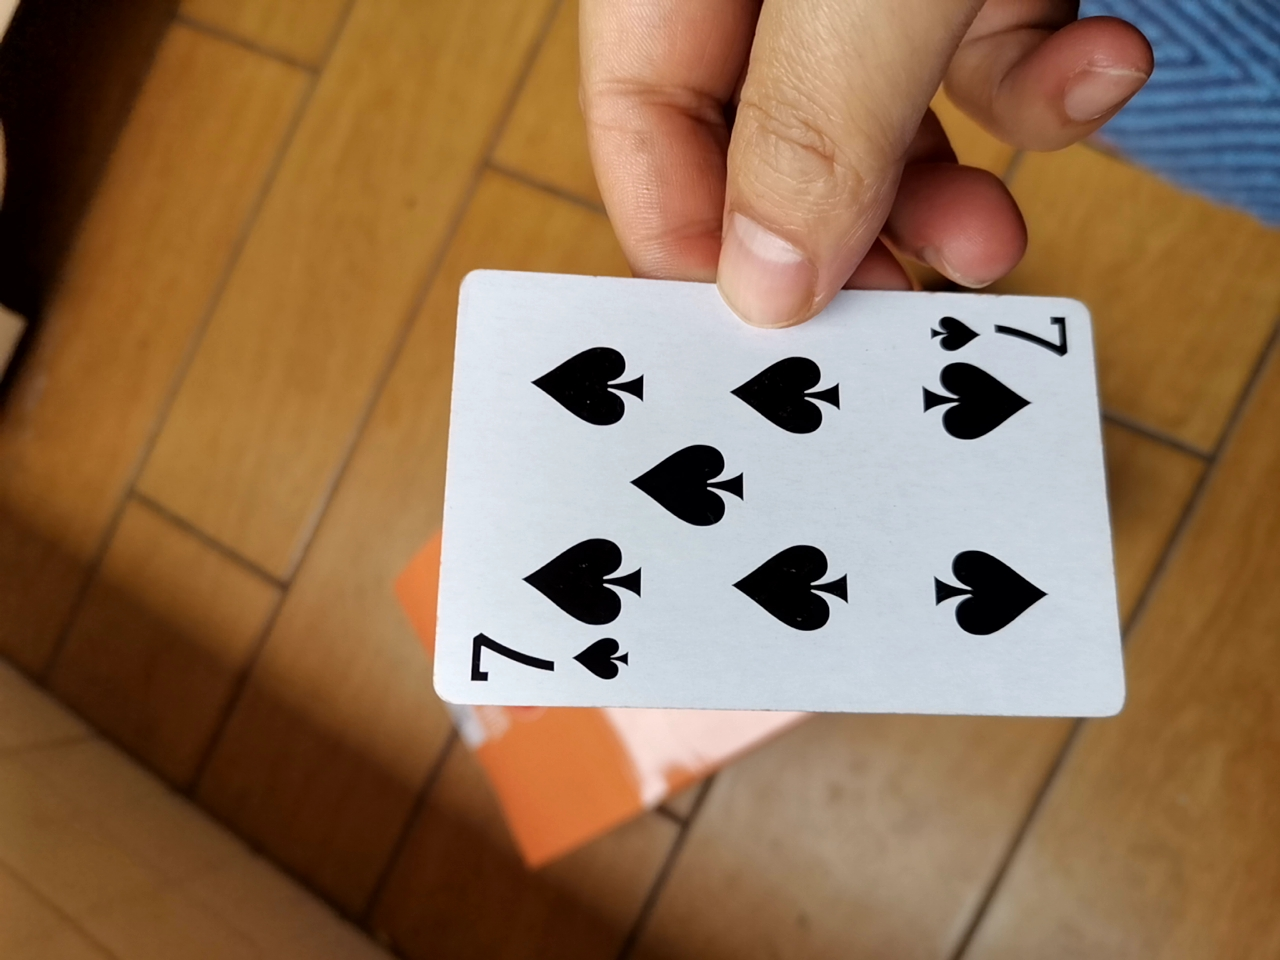ht 7: (403, 264, 1137, 744)
